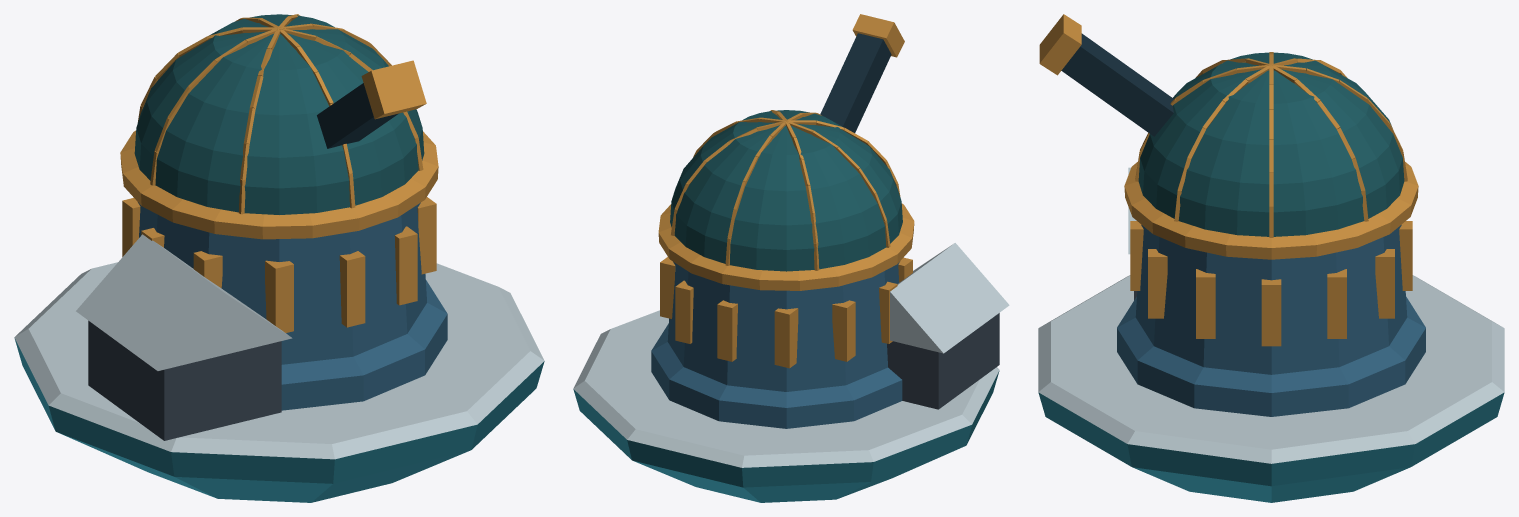
The model's file is observatory.glb.
The picture shows the model from 3 angles, left to right: view 1: azimuth 30°, elevation 25°; view 2: azimuth 150°, elevation 25°; view 3: azimuth 270°, elevation 25°; orthographic projection. The views are drawn at different scales.
Visible parts, largest first — view 1: observatory; view 2: observatory; view 3: observatory.
Boxes of the visible parts, x1,y1,x2,y2 form: observatory: [14, 14, 544, 502]; observatory: [573, 14, 1009, 502]; observatory: [1038, 14, 1504, 502].
Size of the model in its own units: 13 by 12.3 by 12.36.
